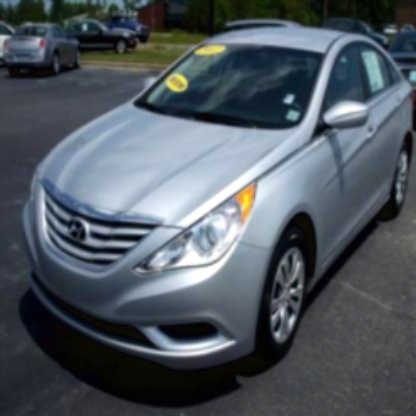Vehicle: (20, 26, 415, 374)
